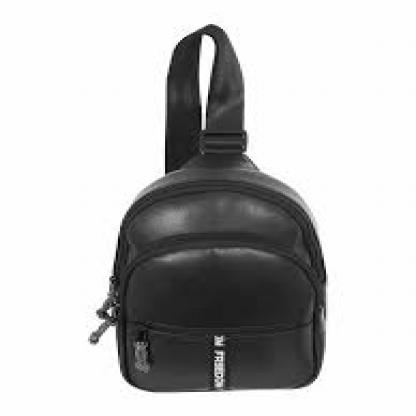morral: (75, 13, 399, 397)
